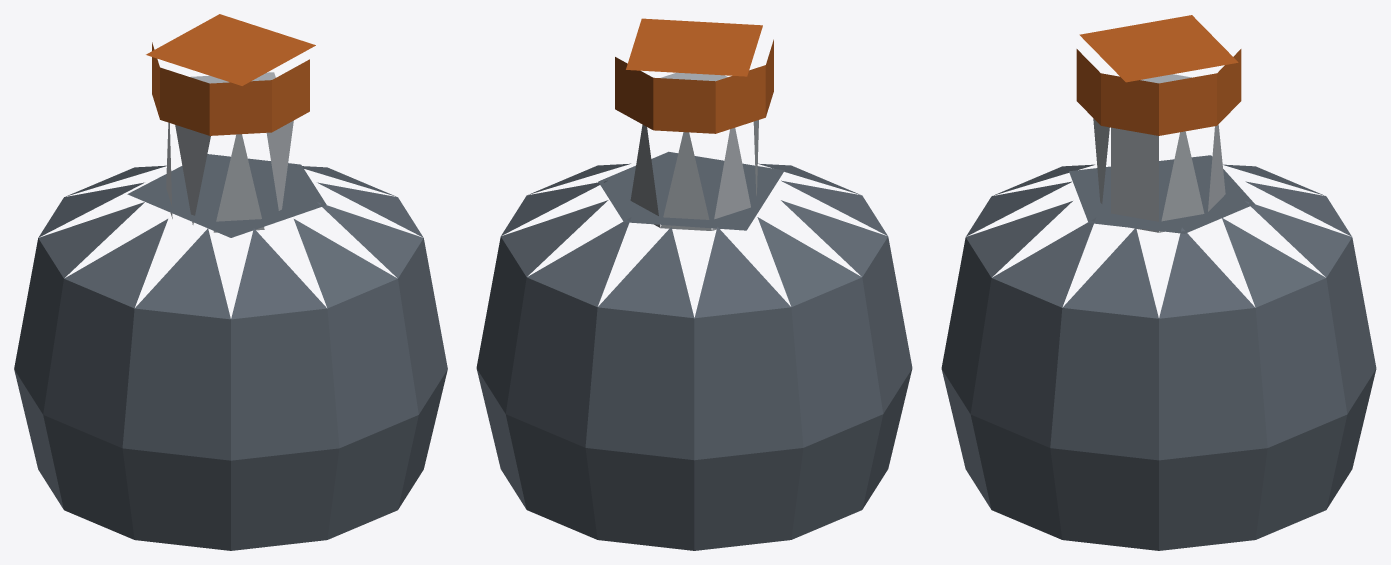
The model's file is canteen.lod.glb.
3 renders of one model, left to right at view 1: azimuth 30°, elevation 25°; view 2: azimuth 150°, elevation 25°; view 3: azimuth 270°, elevation 25°, orthographic.
Visible parts, largest first — view 1: m; view 2: m; view 3: m.
Boxes of the visible parts, bbox=[...] form: m: bbox=[14, 14, 447, 550]; m: bbox=[476, 18, 912, 550]; m: bbox=[941, 15, 1376, 550].
Bounding box in the file's own units: 0.0681 × 0.0741 × 0.0681.
